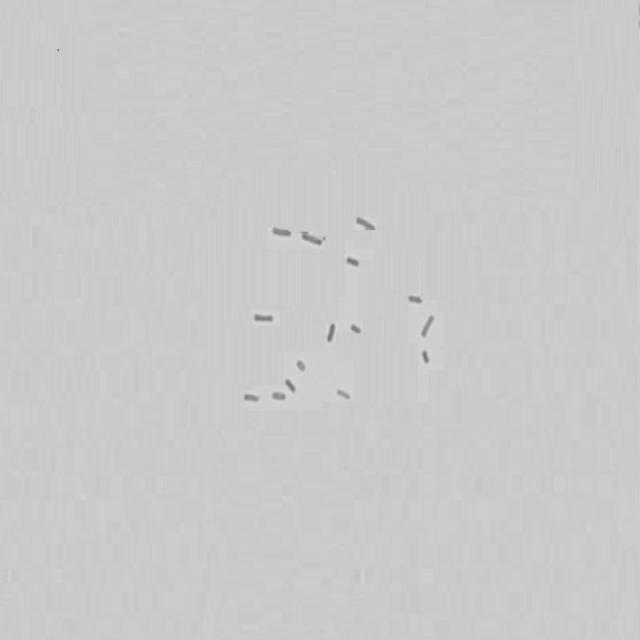E-coli: (351, 209, 378, 232), (267, 220, 295, 242), (299, 225, 325, 248), (419, 313, 438, 341), (250, 310, 277, 327), (242, 386, 262, 408), (347, 318, 365, 340), (406, 288, 424, 309), (334, 379, 349, 404), (341, 253, 361, 270), (324, 322, 339, 344), (284, 374, 299, 396), (419, 348, 432, 368), (296, 355, 306, 372), (273, 390, 285, 403)
